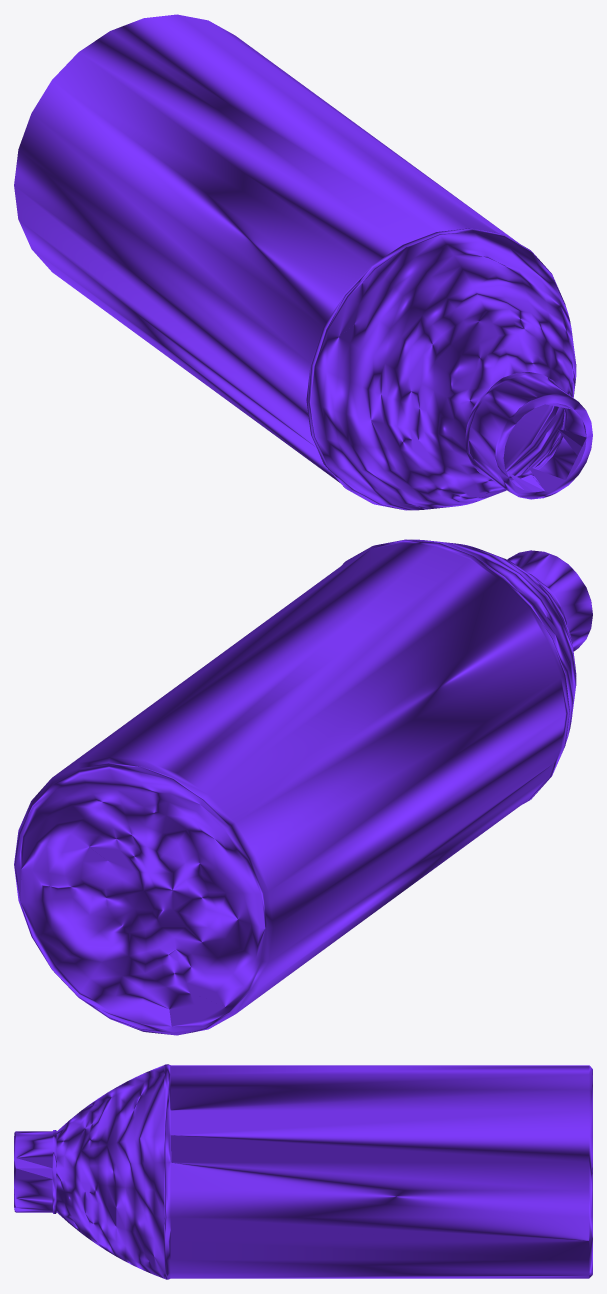
Rendered from model_align.obj.
3 views of the same model, one above another, from view 1: azimuth 30°, elevation 25°; view 2: azimuth 150°, elevation 25°; view 3: azimuth 270°, elevation 25° (orthographic). The views are drawn at different scales.
Size of the model in its own units: 0.0654 by 0.0654 by 0.175.
